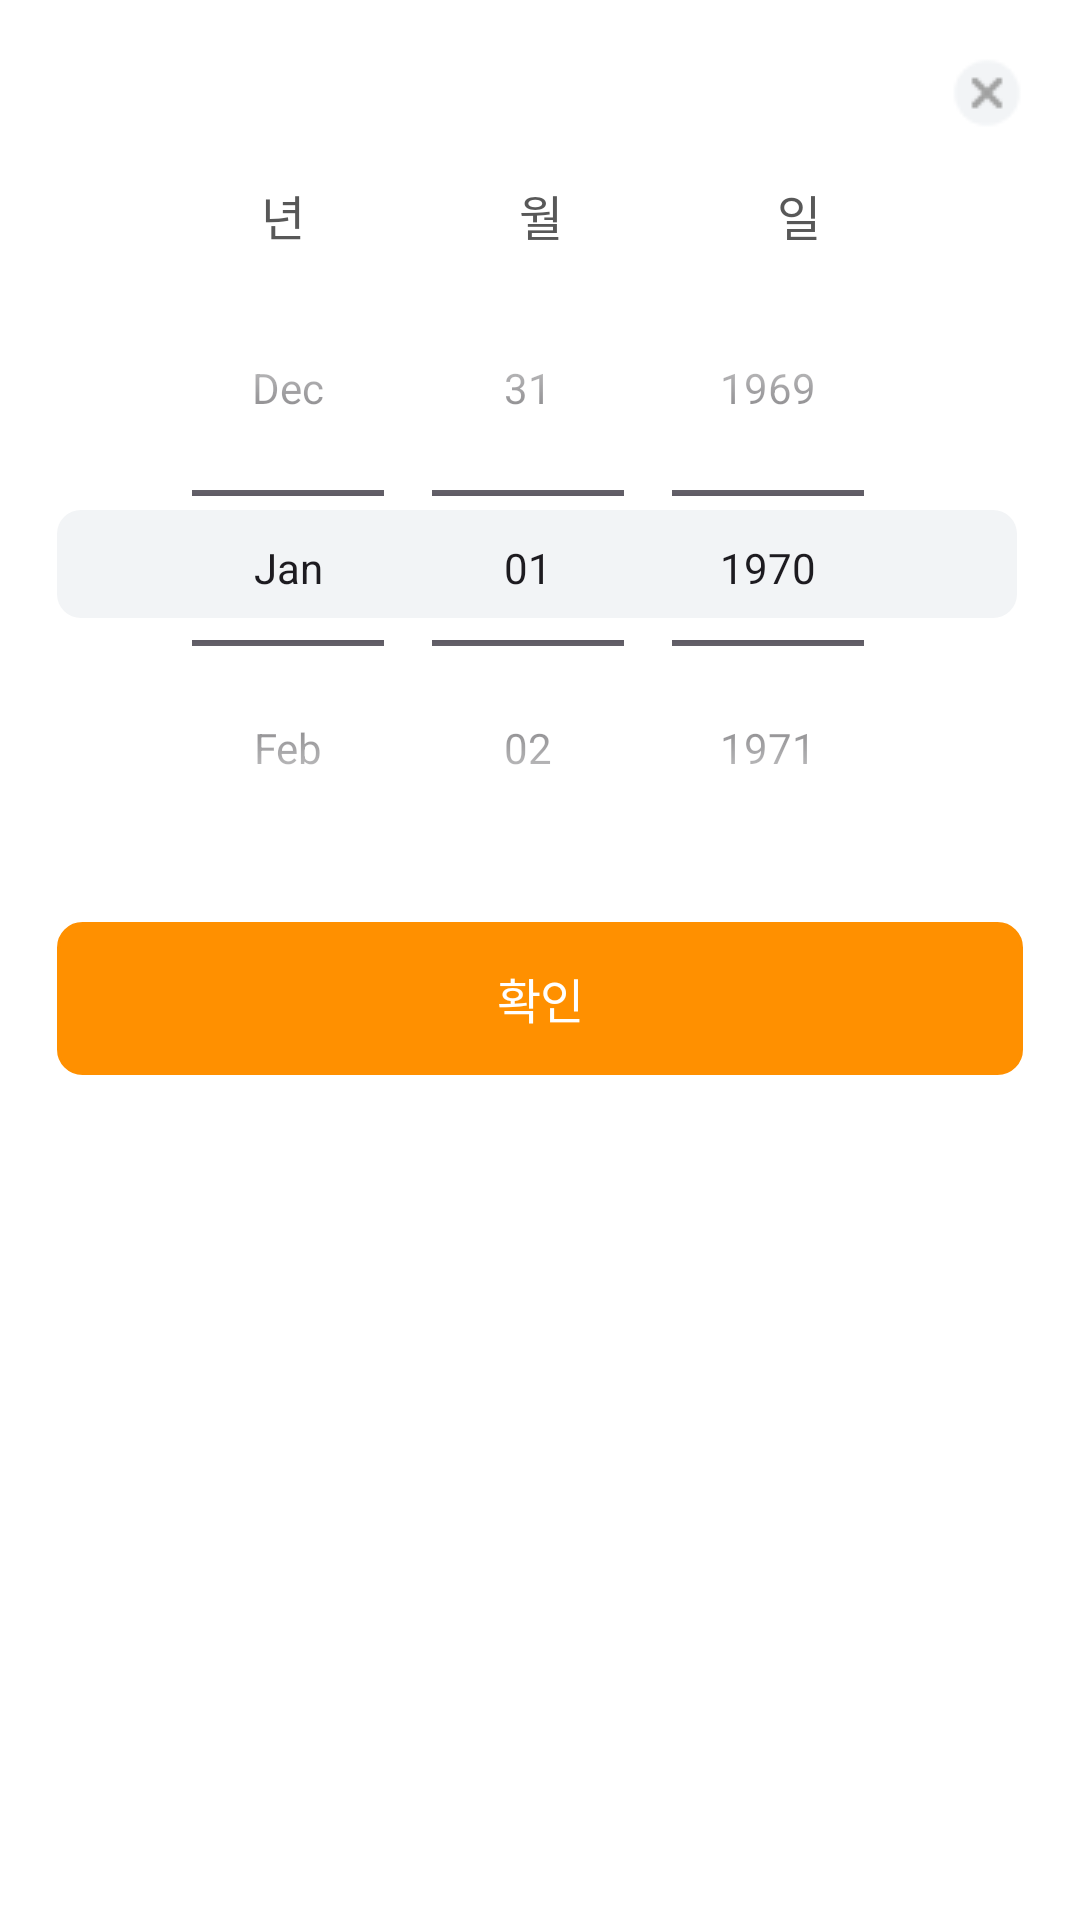

Icon bounding boxes for this 1080×1920 phone screenshot, format (x1, y1, x2, y2):
search filters date close: (971, 77, 1003, 109)
